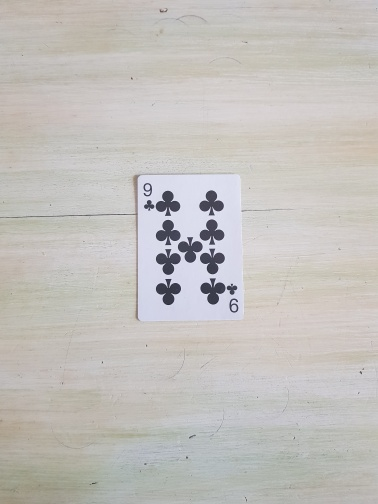nine: (135, 172, 247, 324)
